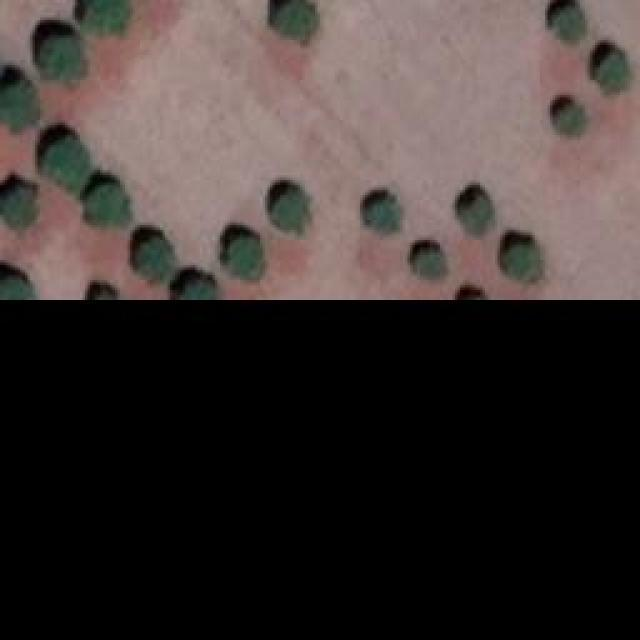Tree: (38, 135, 91, 188), (83, 183, 128, 228), (0, 78, 35, 131), (42, 30, 80, 78), (272, 185, 310, 233), (507, 240, 545, 283), (278, 0, 318, 38), (0, 183, 35, 226), (175, 270, 225, 300), (230, 235, 263, 280), (138, 238, 171, 278), (85, 0, 128, 30), (370, 197, 403, 235), (460, 198, 495, 233), (553, 103, 586, 136), (595, 58, 628, 91), (553, 13, 588, 43), (3, 268, 38, 298), (413, 250, 443, 275), (85, 277, 125, 295), (450, 277, 488, 295)
